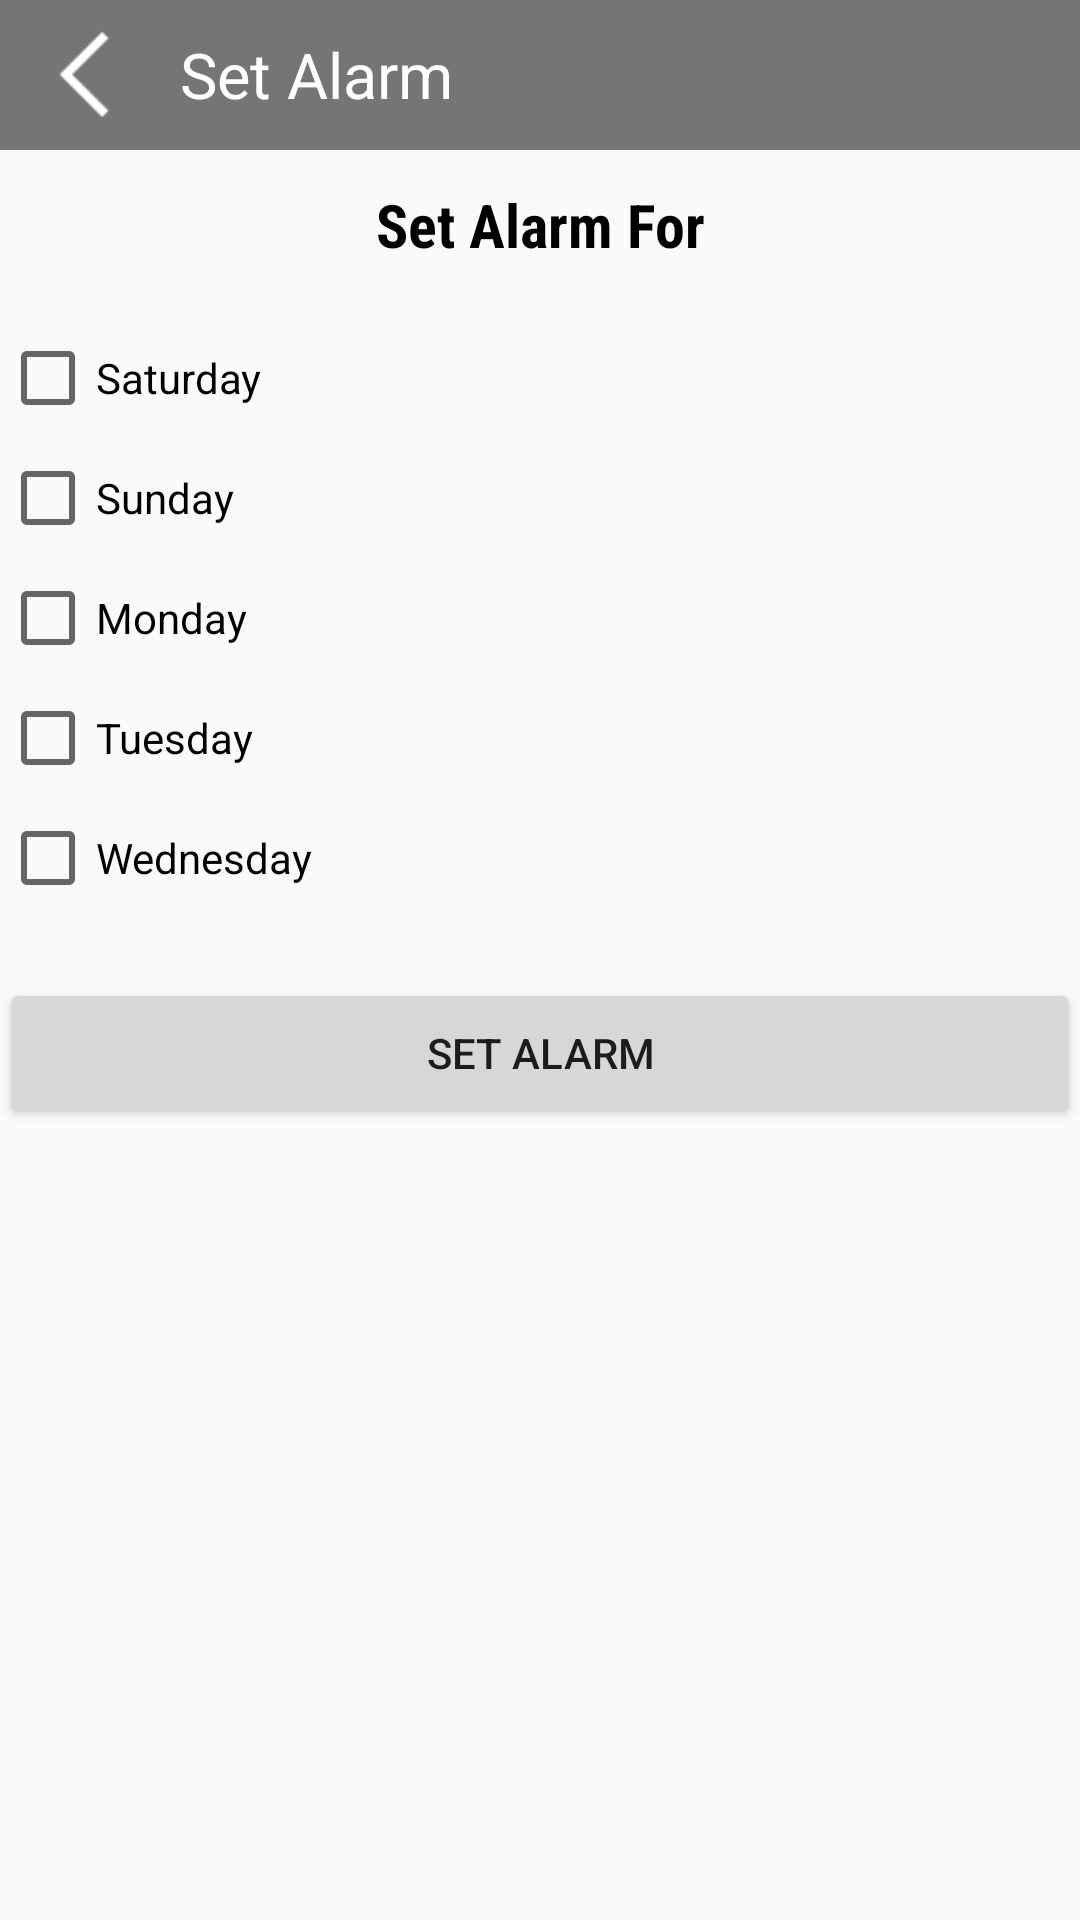

Named icons in this screenshot (1080w x 1920h) and their bounding boxes, region(x1, y1, x2, y2):
back: region(60, 32, 109, 117)
